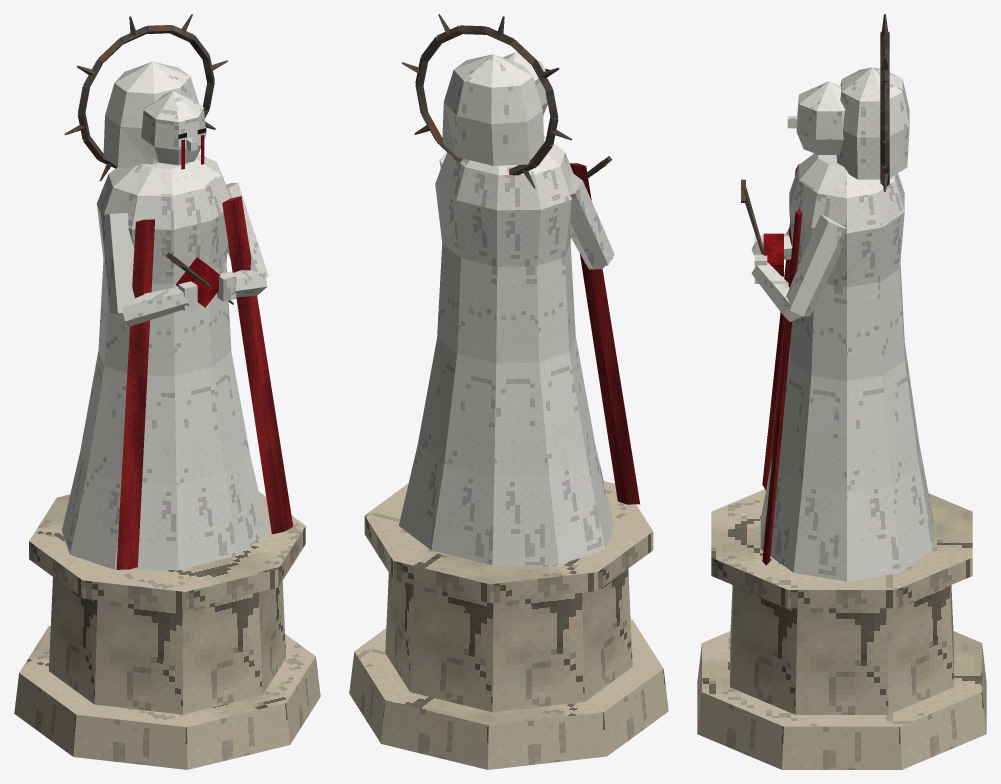
File: estatua_dolorosa.obj
3 views of the same model, side by side, from view 1: azimuth 30°, elevation 25°; view 2: azimuth 150°, elevation 25°; view 3: azimuth 270°, elevation 25° (orthographic). The views are drawn at different scales.
Visible parts, largest first — view 1: estatua_dolorosa; view 2: estatua_dolorosa; view 3: estatua_dolorosa.
Boxes of the visible parts, bbox=[...] form: estatua_dolorosa: bbox=[14, 14, 320, 769]; estatua_dolorosa: bbox=[349, 14, 668, 769]; estatua_dolorosa: bbox=[697, 14, 986, 769].
Size of the model in its own units: 1.15 by 3 by 1.15.
Materials: 6 (6 with a texture image).
